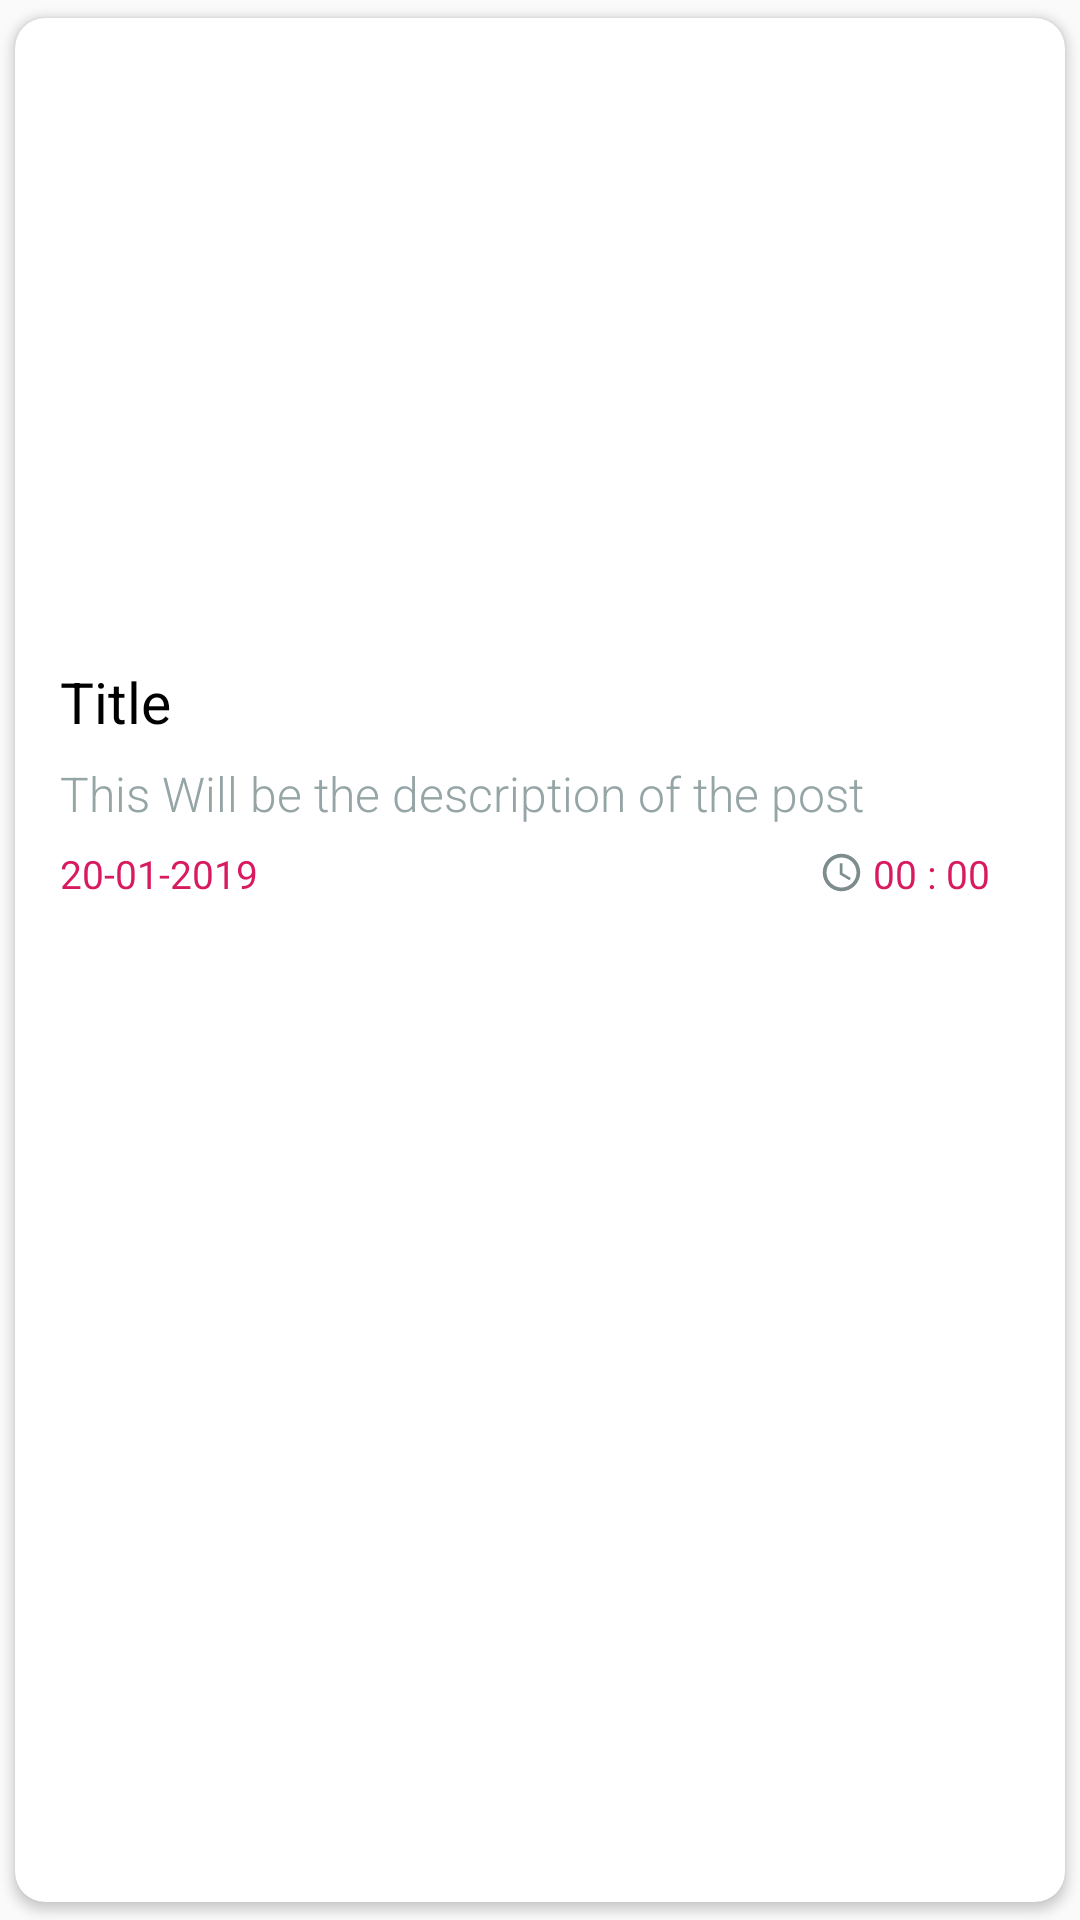

Where icons sit on this 1080*1920 app screen, as {"x1": x1, "y1": y1, "x2": x2, "y2": y2}:
access time: {"x1": 822, "y1": 853, "x2": 861, "y2": 892}
